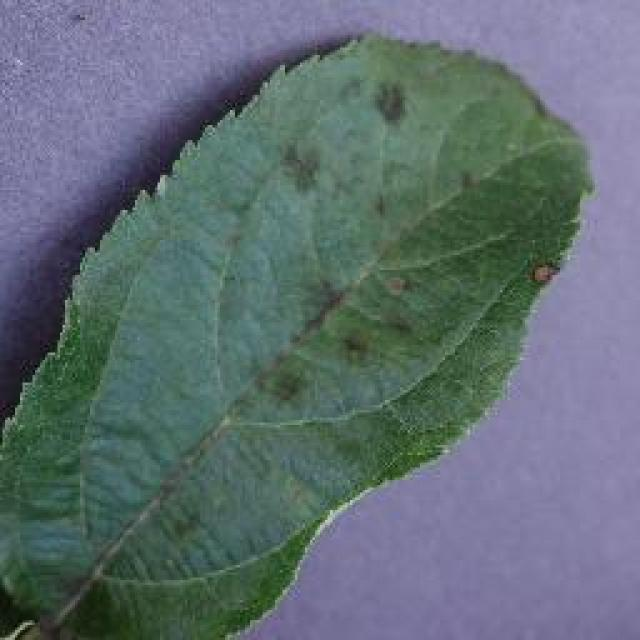apple scab disease: (0, 28, 595, 638)
